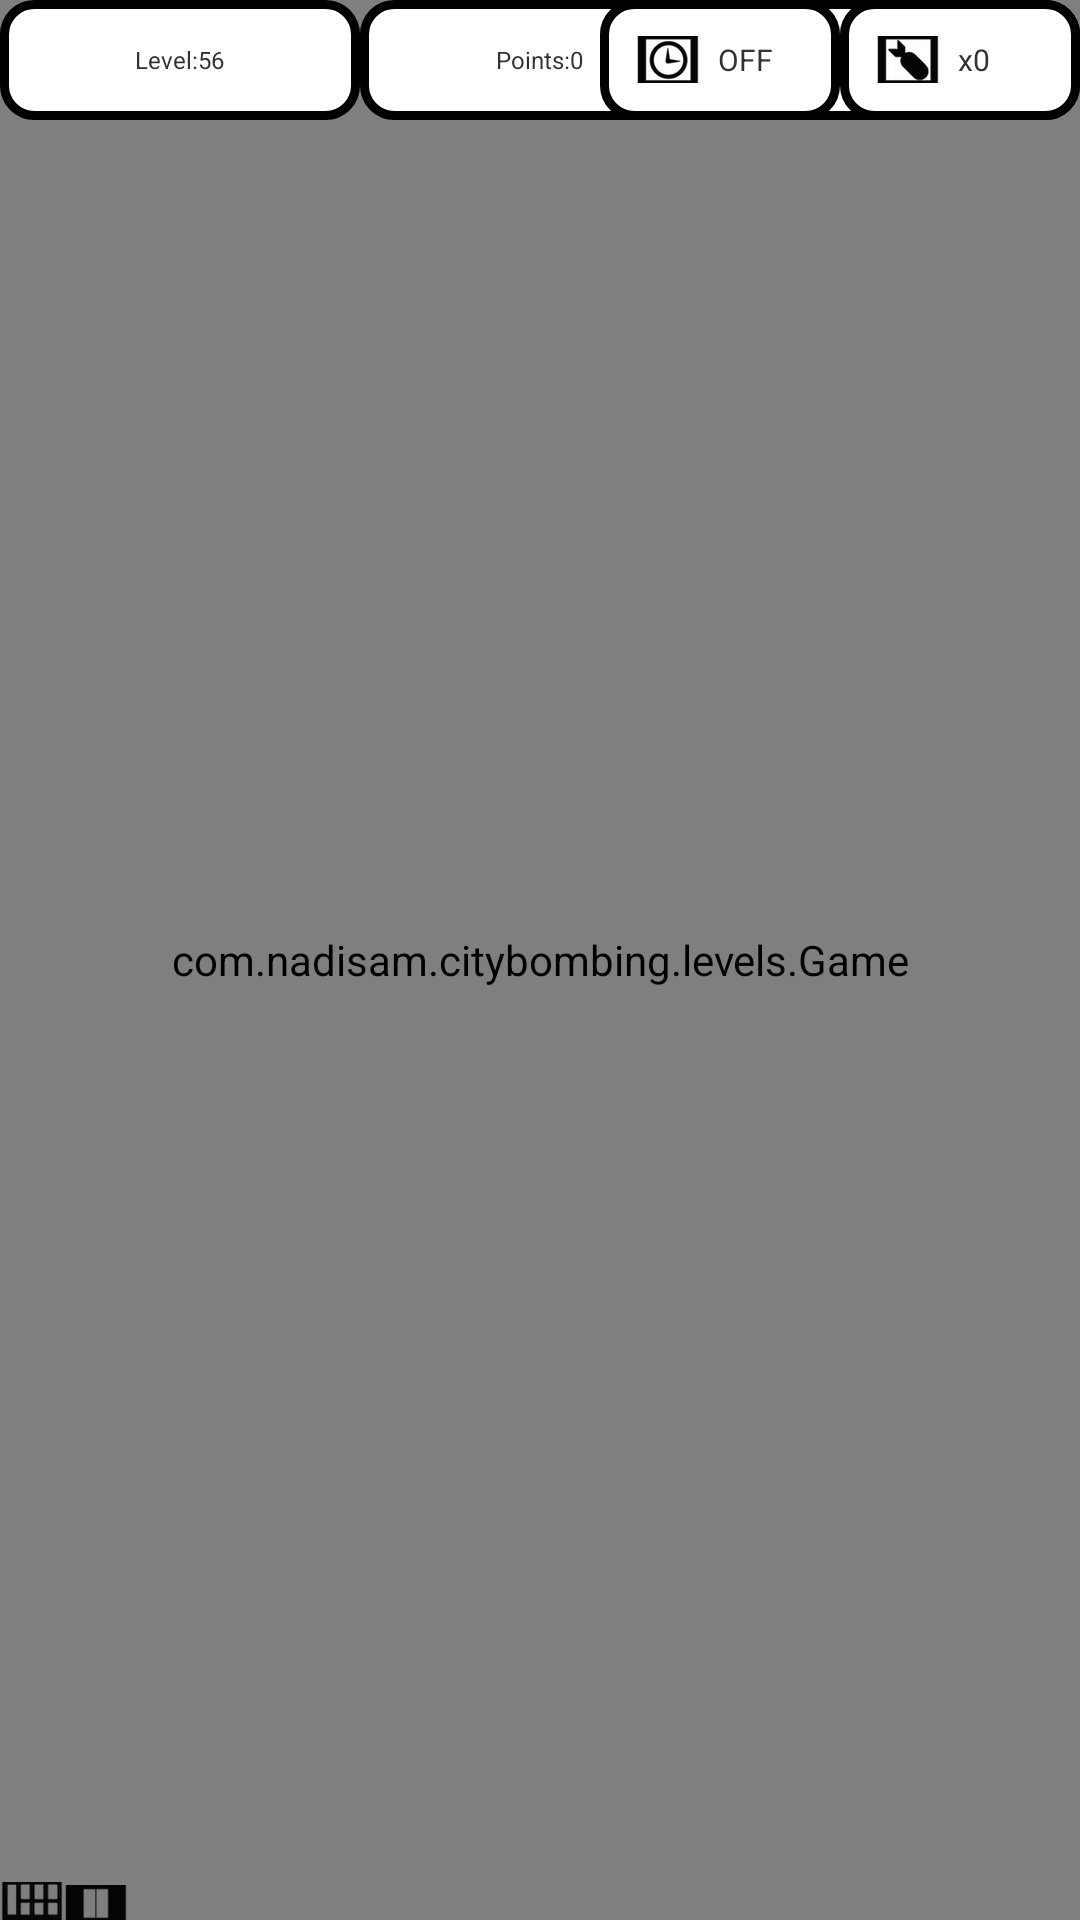

Locate icon controls on the screen. Image size 1080*1920, boxes as BBox(x1, y1, x2, y2).
extra boomb: BBox(877, 36, 939, 83)
extra more slow: BBox(637, 36, 699, 83)
